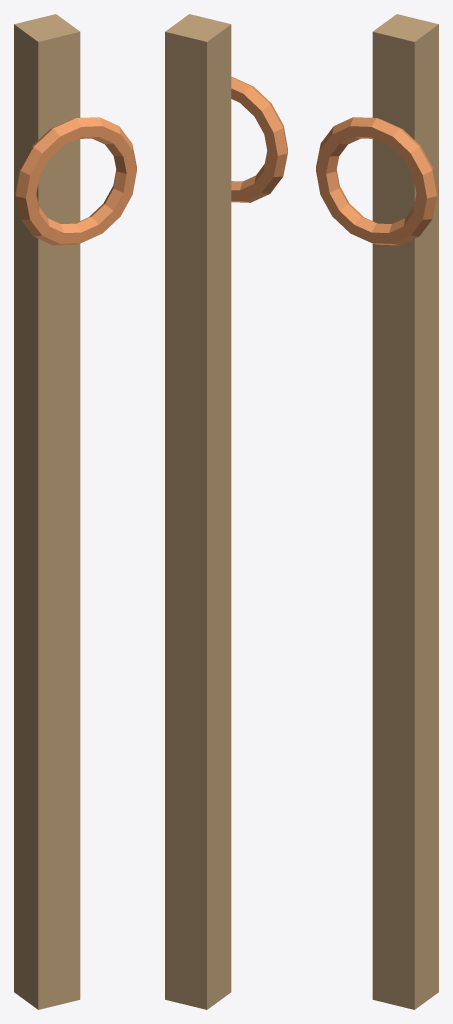
The model's file is activator.pull.glb.
The picture shows the model from 3 angles, left to right: view 1: azimuth 30°, elevation 25°; view 2: azimuth 150°, elevation 25°; view 3: azimuth 330°, elevation 25°; orthographic projection.
Parts seen in each view (by area): view 1: activator.pull; view 2: activator.pull; view 3: activator.pull.
Part boxes in pixels (box(x1,y1,x2,y2)): activator.pull: box(14, 14, 136, 1009); activator.pull: box(165, 14, 287, 1009); activator.pull: box(316, 14, 438, 1009).
Size of the model in its own units: 0.144 by 1.1 by 0.0954.
